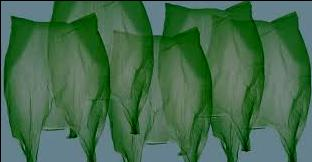Plastic: (156, 2, 263, 161), (1, 6, 110, 161), (209, 1, 311, 162), (47, 1, 153, 147), (105, 30, 210, 160)
